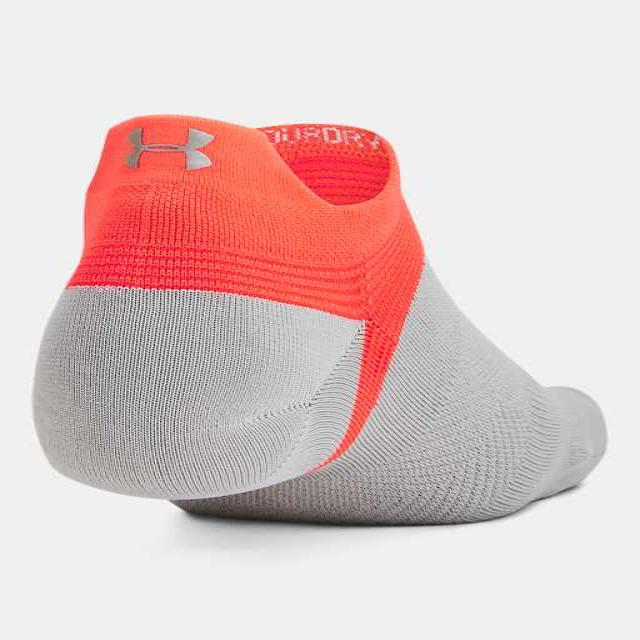sock: (31, 112, 608, 526)
